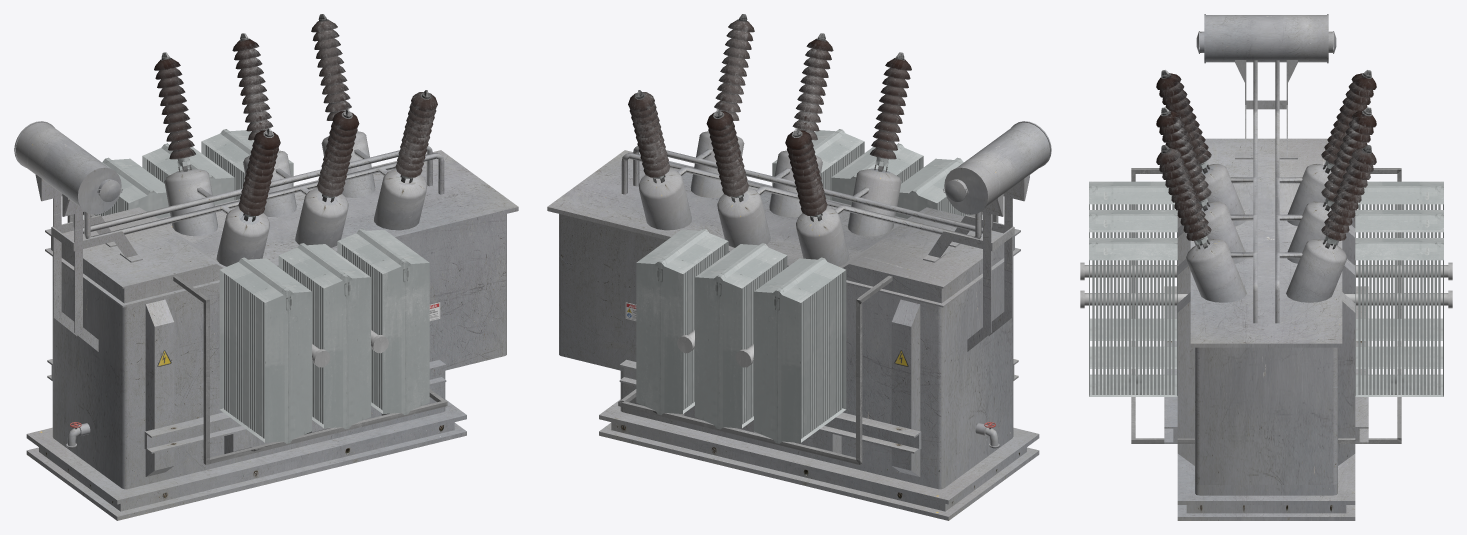
The model's file is transformer_parts.glb.
3 views of the same model, side by side, from view 1: azimuth 30°, elevation 25°; view 2: azimuth 150°, elevation 25°; view 3: azimuth 270°, elevation 25° (orthographic). The views are drawn at different scales.
Visible parts, largest first — view 1: tank, radiator_1, tank_fitting_1, radiator_2, radiator_3, conservator, radiator_header_1, bushing_lv_1, bushing_base_3, bushing_base_4, radiator_4, bushing_base_2 (+10 smaller); view 2: tank, radiator_4, tank_fitting_1, radiator_5, radiator_6, conservator, radiator_header_2, bushing_hv_1, bushing_base_6, bushing_base_1, radiator_1, bushing_base_5 (+10 smaller); view 3: tank, tank_fitting_1, radiator_3, radiator_6, conservator, radiator_2, radiator_5, radiator_1, radiator_4, bushing_base_3, bushing_base_6, bushing_lv_3 (+15 smaller).
Part boxes in pixels (x1=…): tank: x1=26, y1=150, x2=518, y2=520; radiator_1: x1=219, y1=257, x2=311, y2=443; tank_fitting_1: x1=47, y1=145, x2=446, y2=476; radiator_2: x1=278, y1=243, x2=370, y2=429; radiator_3: x1=337, y1=228, x2=429, y2=414; conservator: x1=14, y1=121, x2=142, y2=351; radiator_header_1: x1=173, y1=275, x2=447, y2=464; bushing_lv_1: x1=154, y1=52, x2=195, y2=172; bushing_base_3: x1=374, y1=168, x2=427, y2=230; bushing_base_4: x1=164, y1=168, x2=217, y2=236; radiator_4: x1=83, y1=157, x2=170, y2=218; bushing_base_2: x1=295, y1=187, x2=348, y2=247; tank: x1=547, y1=150, x2=1039, y2=520; radiator_4: x1=754, y1=257, x2=846, y2=443; tank_fitting_1: x1=619, y1=145, x2=1018, y2=476; radiator_5: x1=695, y1=243, x2=787, y2=429; radiator_6: x1=636, y1=228, x2=728, y2=414; conservator: x1=923, y1=121, x2=1051, y2=351; radiator_header_2: x1=618, y1=275, x2=892, y2=464; bushing_hv_1: x1=870, y1=52, x2=911, y2=172; bushing_base_6: x1=638, y1=168, x2=691, y2=230; bushing_base_1: x1=848, y1=168, x2=901, y2=236; radiator_1: x1=895, y1=157, x2=982, y2=218; bushing_base_5: x1=717, y1=187, x2=770, y2=247; tank: x1=1177, y1=138, x2=1355, y2=520; tank_fitting_1: x1=1164, y1=60, x2=1368, y2=465; radiator_3: x1=1089, y1=238, x2=1177, y2=396; radiator_6: x1=1355, y1=238, x2=1443, y2=396; conservator: x1=1196, y1=14, x2=1336, y2=159; radiator_2: x1=1089, y1=210, x2=1177, y2=368; radiator_5: x1=1355, y1=210, x2=1443, y2=368; radiator_1: x1=1089, y1=181, x2=1176, y2=340; radiator_4: x1=1356, y1=181, x2=1443, y2=340; bushing_base_3: x1=1186, y1=239, x2=1246, y2=302; bushing_base_6: x1=1286, y1=239, x2=1346, y2=302; bushing_lv_3: x1=1321, y1=145, x2=1376, y2=249.
Bounding box in the file's own units: 5.52 × 4.4 × 4.2.
Materials: 2 (2 with a texture image).
